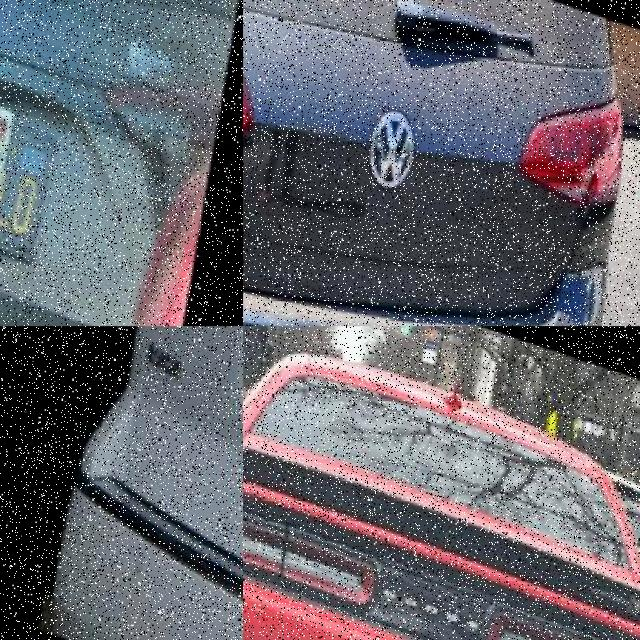licenseplate: (0, 55, 83, 228)
